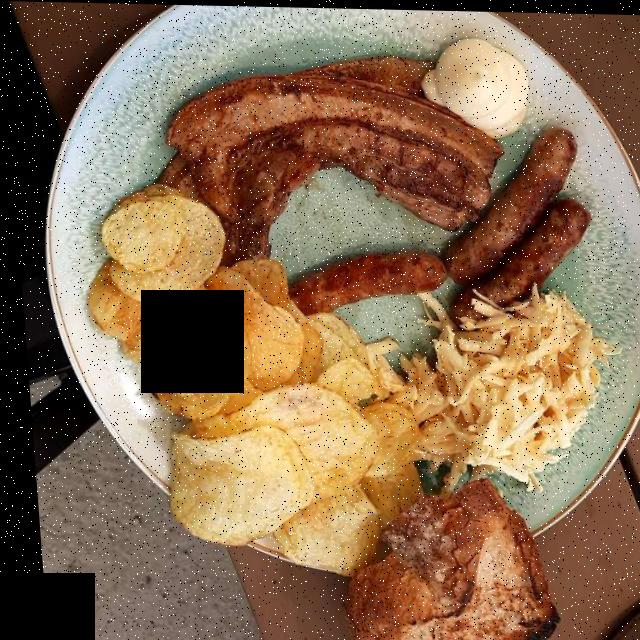bacon-frying: (162, 56, 502, 255)
bread-wholemeal: (339, 484, 542, 640)
crisps: (91, 191, 413, 565)
mayonnaise: (428, 35, 527, 131)
sausage: (298, 129, 582, 305)
